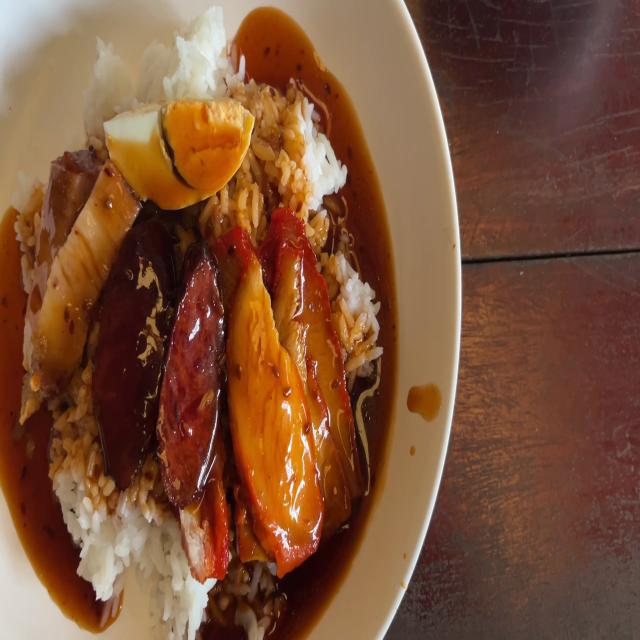01boiled_egg: (106, 99, 250, 201)
01chainese_sausage: (98, 226, 227, 495), (95, 233, 175, 487), (157, 268, 226, 498)
01crispy_pork: (21, 143, 132, 390), (50, 187, 129, 352), (27, 148, 78, 304)
01red_pork: (220, 228, 358, 539), (227, 250, 314, 548), (280, 229, 356, 505), (180, 505, 229, 580)
01red_pork_and_crispy_pork: (17, 3, 379, 640)
01rice: (105, 499, 187, 640), (254, 94, 347, 218), (84, 24, 230, 94), (66, 413, 109, 586)
